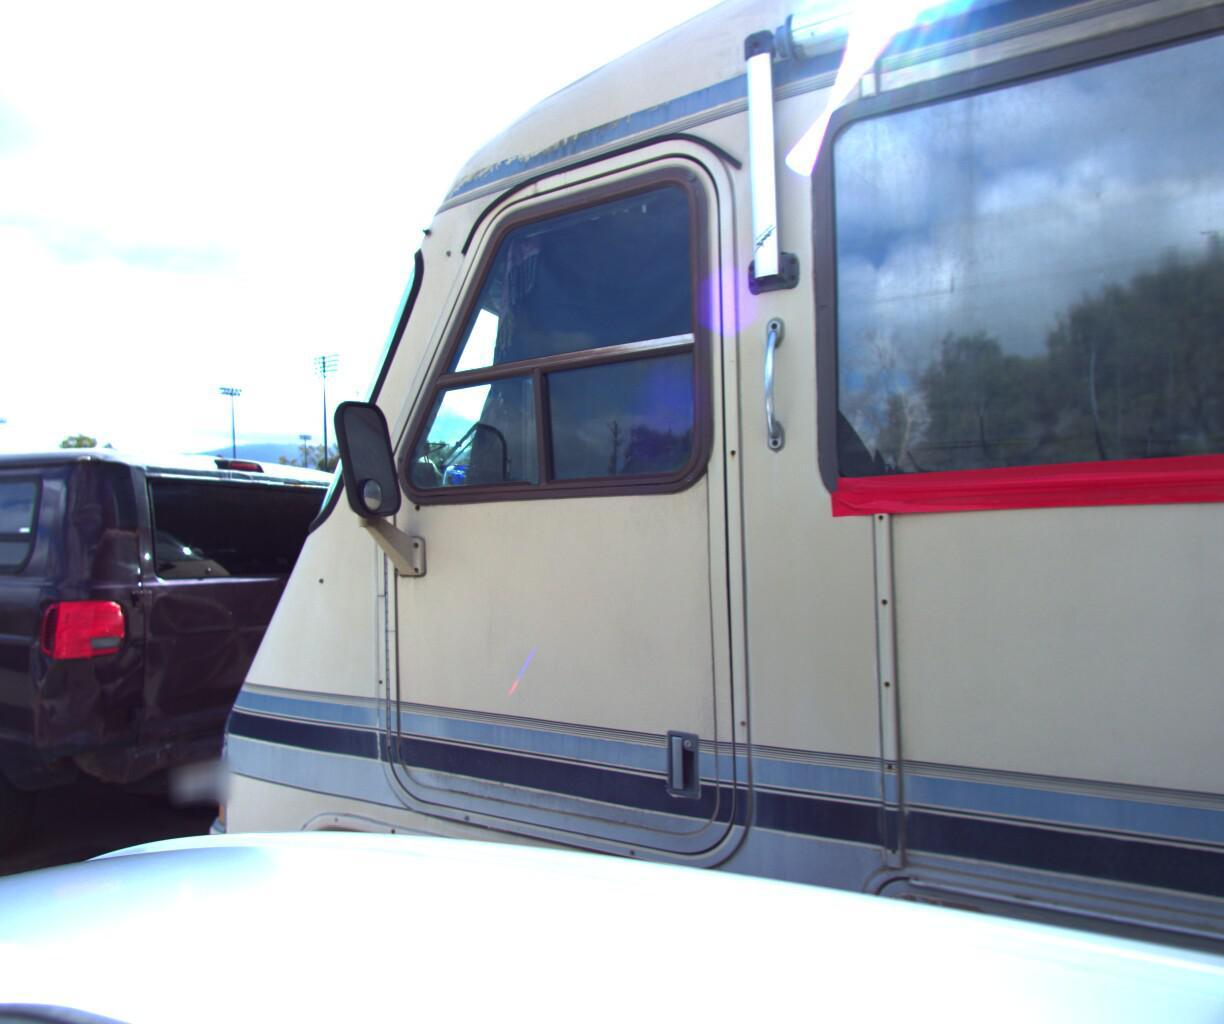car: (0, 427, 411, 941)
